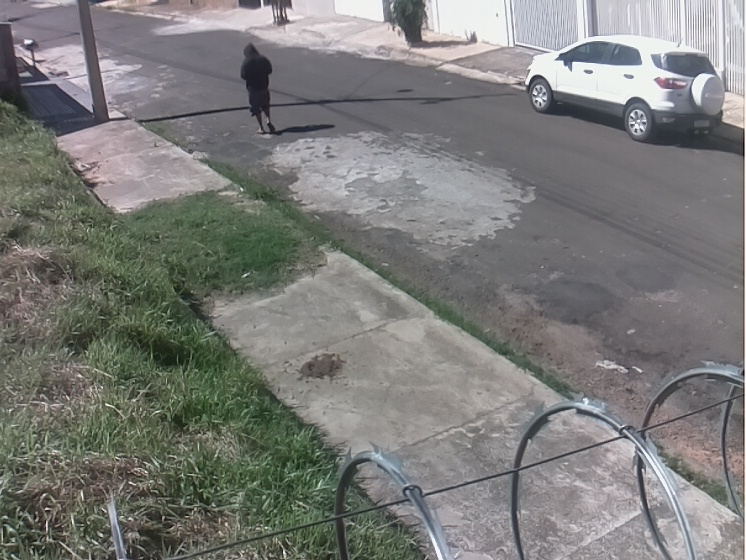person: (239, 41, 277, 136)
